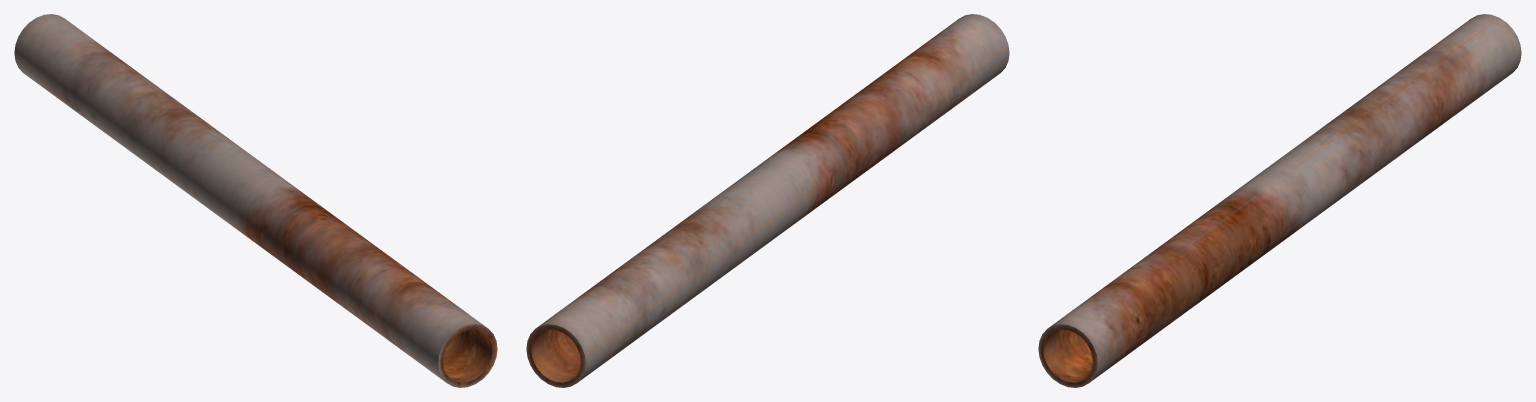
Rendered from small_steel_pipe_13.glb.
3 renders of one model, left to right at view 1: azimuth 30°, elevation 25°; view 2: azimuth 150°, elevation 25°; view 3: azimuth 330°, elevation 25°, orthographic.
Parts seen in each view (by area): view 1: small_steel_pipe_13; view 2: small_steel_pipe_13; view 3: small_steel_pipe_13.
Part boxes in pixels (box(x1,y1,x2,y2)): small_steel_pipe_13: box(14, 14, 497, 387); small_steel_pipe_13: box(526, 14, 1009, 387); small_steel_pipe_13: box(1038, 14, 1521, 387).
Size of what is drawn, in the model's own units: 0.0202 by 0.0202 by 0.25.
1 material, 1 textured.
